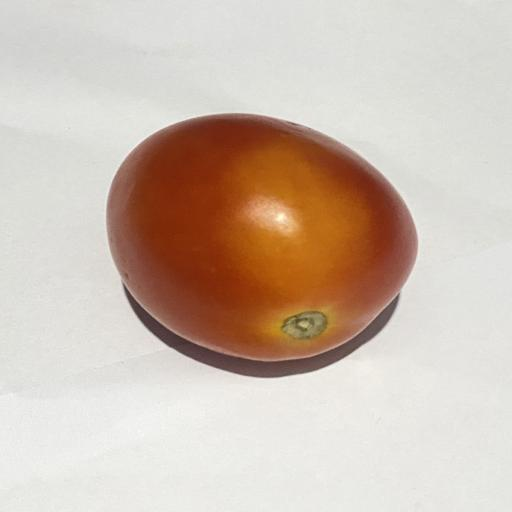ripe: (107, 114, 417, 361)
